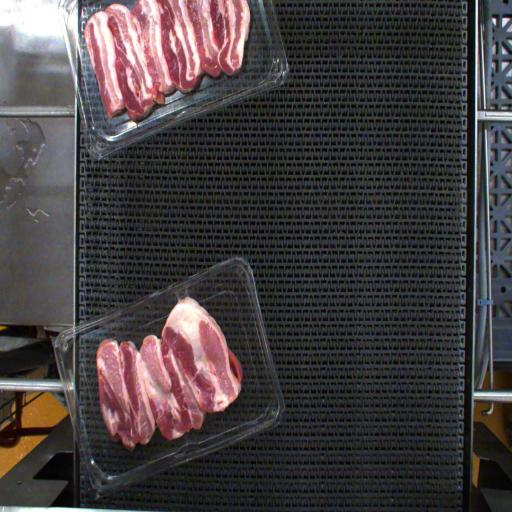packaging-error: (162, 276, 206, 307)
